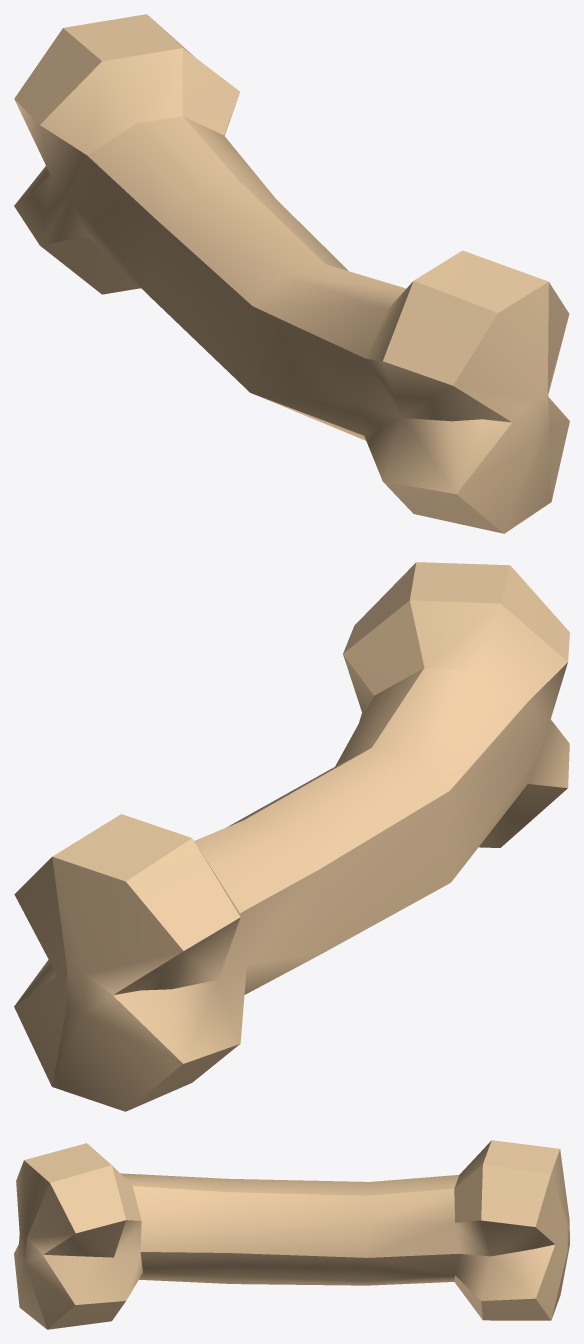
Rendered from Bones_4.glb.
The picture shows the model from 3 angles, top to bottom: view 1: azimuth 30°, elevation 25°; view 2: azimuth 150°, elevation 25°; view 3: azimuth 270°, elevation 25°; orthographic projection. The views are drawn at different scales.
Visible parts, largest first — view 1: Bones_4; view 2: Bones_4; view 3: Bones_4.
Boxes of the visible parts, left/top/right/bottom form: Bones_4: left=14, top=14, right=569, bottom=533; Bones_4: left=14, top=562, right=569, bottom=1111; Bones_4: left=14, top=1140, right=569, bottom=1329.
Size of the model in its own units: 0.061 by 0.0646 by 0.2083.
Materials: 1 (1 with a texture image).
